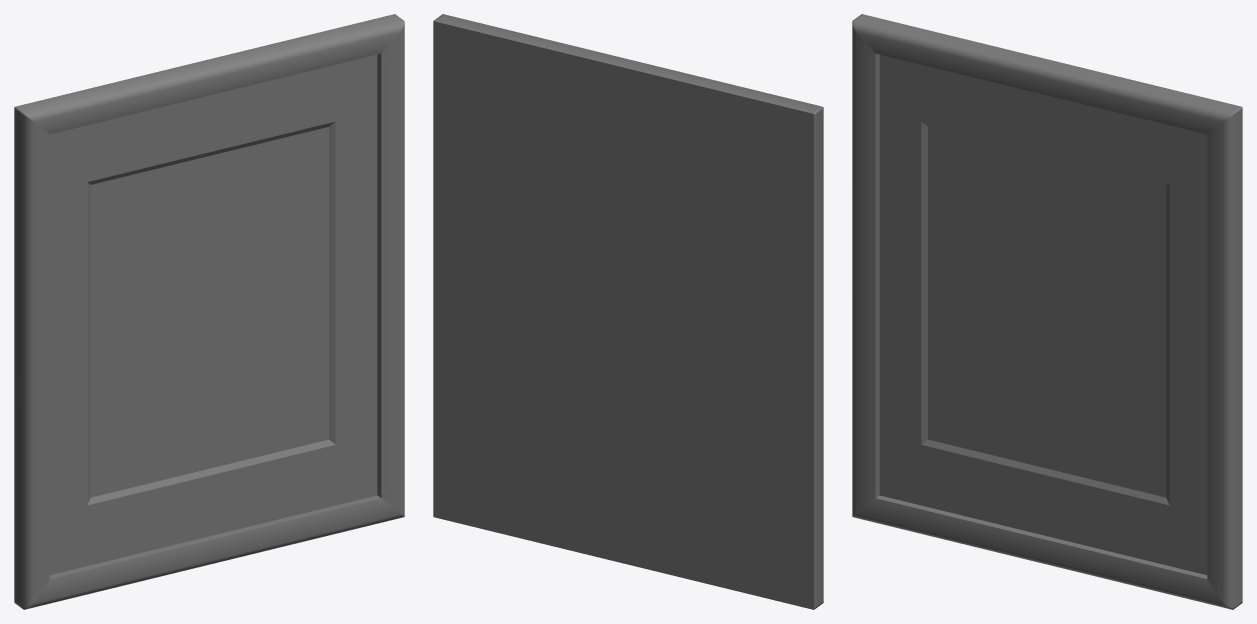
The model's file is PictureFrame1.fbx.
3 renders of one model, left to right at view 1: azimuth 30°, elevation 25°; view 2: azimuth 150°, elevation 25°; view 3: azimuth 330°, elevation 25°, orthographic.
Parts seen in each view (by area): view 1: PictureFrame_16x20in_002_1; view 2: PictureFrame_16x20in_002_1; view 3: PictureFrame_16x20in_002_1.
Boxes of the visible parts, x1,y1,x2,y2 form: PictureFrame_16x20in_002_1: (14, 14, 404, 609); PictureFrame_16x20in_002_1: (433, 14, 823, 609); PictureFrame_16x20in_002_1: (852, 14, 1242, 609).
Bounding box in the file's own units: 41.06 × 51.12 × 2.4.
1 material, 1 textured.
